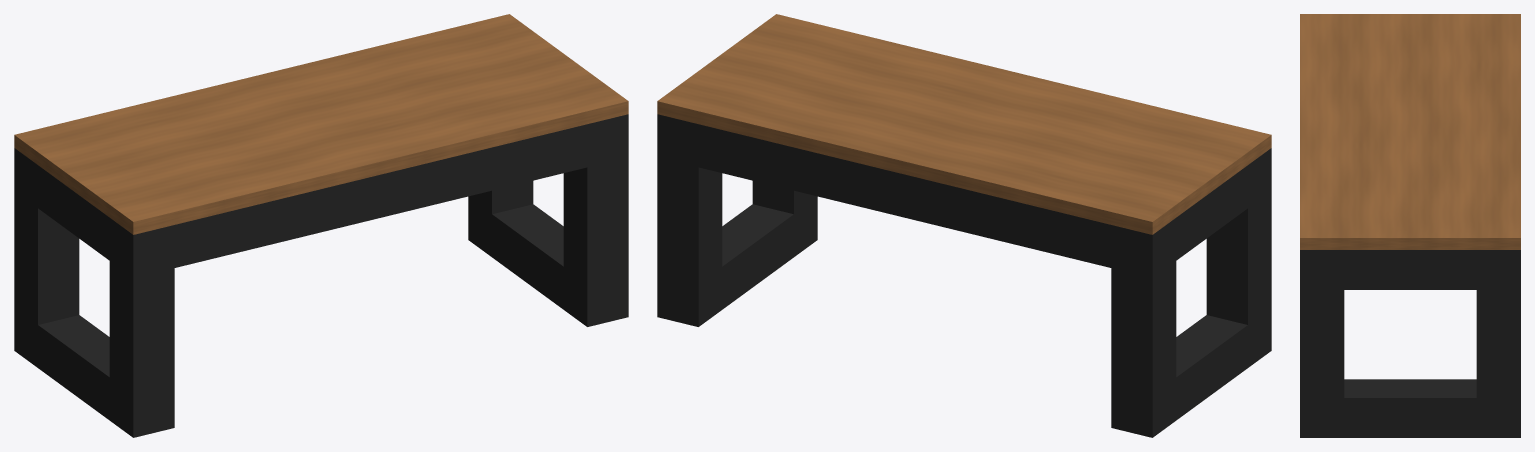
The model's file is mesa-living-nord-roble-negro-10cm.glb.
The picture shows the model from 3 angles, left to right: view 1: azimuth 30°, elevation 25°; view 2: azimuth 150°, elevation 25°; view 3: azimuth 270°, elevation 25°; orthographic projection. The views are drawn at different scales.
Visible parts, largest first — view 1: Tapa de madera maciza 120 x 50 cm, Pata recta de hierro 10 x 10 cm (×4), Larguero longitudinal superior recto, Travesaño inferior recto (×2), Travesaño superior recto; view 2: Tapa de madera maciza 120 x 50 cm, Pata recta de hierro 10 x 10 cm (×4), Larguero longitudinal superior recto, Travesaño inferior recto (×2), Travesaño superior recto; view 3: Tapa de madera maciza 120 x 50 cm, Pata recta de hierro 10 x 10 cm (×2), Travesaño inferior recto, Travesaño superior recto.
Boxes of the visible parts, bbox=[...] form: Tapa de madera maciza 120 x 50 cm: bbox=[14, 14, 628, 234]; Pata recta de hierro 10 x 10 cm (×4): bbox=[14, 114, 628, 437]; Larguero longitudinal superior recto: bbox=[174, 124, 587, 267]; Travesaño inferior recto (×2): bbox=[26, 204, 575, 428]; Travesaño superior recto: bbox=[26, 158, 121, 269]; Tapa de madera maciza 120 x 50 cm: bbox=[657, 14, 1271, 234]; Pata recta de hierro 10 x 10 cm (×4): bbox=[657, 114, 1271, 437]; Larguero longitudinal superior recto: bbox=[698, 124, 1111, 267]; Travesaño inferior recto (×2): bbox=[710, 204, 1247, 428]; Travesaño superior recto: bbox=[1164, 165, 1247, 268]; Tapa de madera maciza 120 x 50 cm: bbox=[1300, 14, 1520, 249]; Pata recta de hierro 10 x 10 cm (×2): bbox=[1300, 250, 1520, 437]; Travesaño inferior recto: bbox=[1323, 379, 1497, 437]; Travesaño superior recto: bbox=[1322, 250, 1498, 289].
Bounding box in the file's own units: 1.2 × 0.5 × 0.5.
2 materials, 1 textured.
